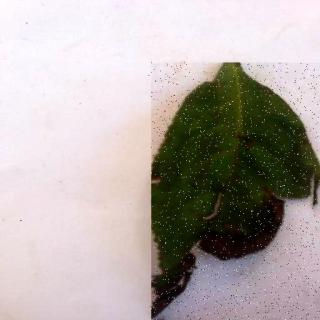Brown Blight: (152, 63, 320, 320)
